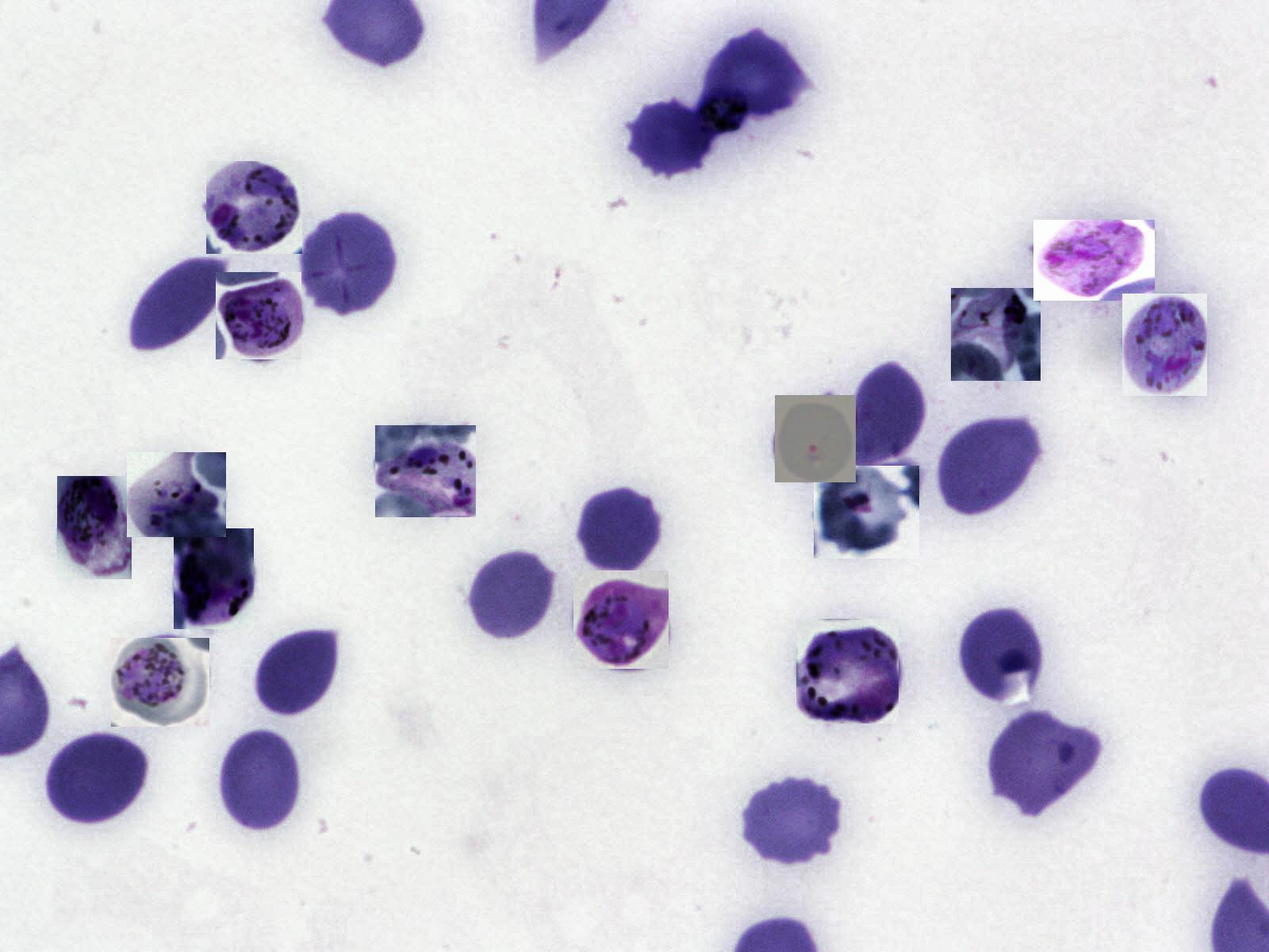Infected: (796, 619, 899, 724), (1033, 220, 1155, 301), (814, 466, 919, 559), (573, 571, 669, 670), (375, 425, 476, 517), (206, 161, 302, 254), (111, 638, 209, 727), (1122, 294, 1207, 396), (127, 452, 226, 537), (951, 288, 1041, 381), (174, 528, 254, 629), (57, 476, 132, 579), (216, 272, 301, 359), (775, 395, 856, 482)
Uninfected: (937, 412, 1049, 516), (991, 711, 1096, 816), (299, 214, 397, 314), (742, 774, 842, 869), (705, 29, 805, 120), (45, 733, 148, 821), (464, 551, 559, 644), (135, 260, 230, 352), (957, 603, 1039, 700), (221, 731, 300, 831), (851, 361, 929, 462), (577, 485, 664, 573), (259, 630, 346, 718), (631, 94, 715, 178)
